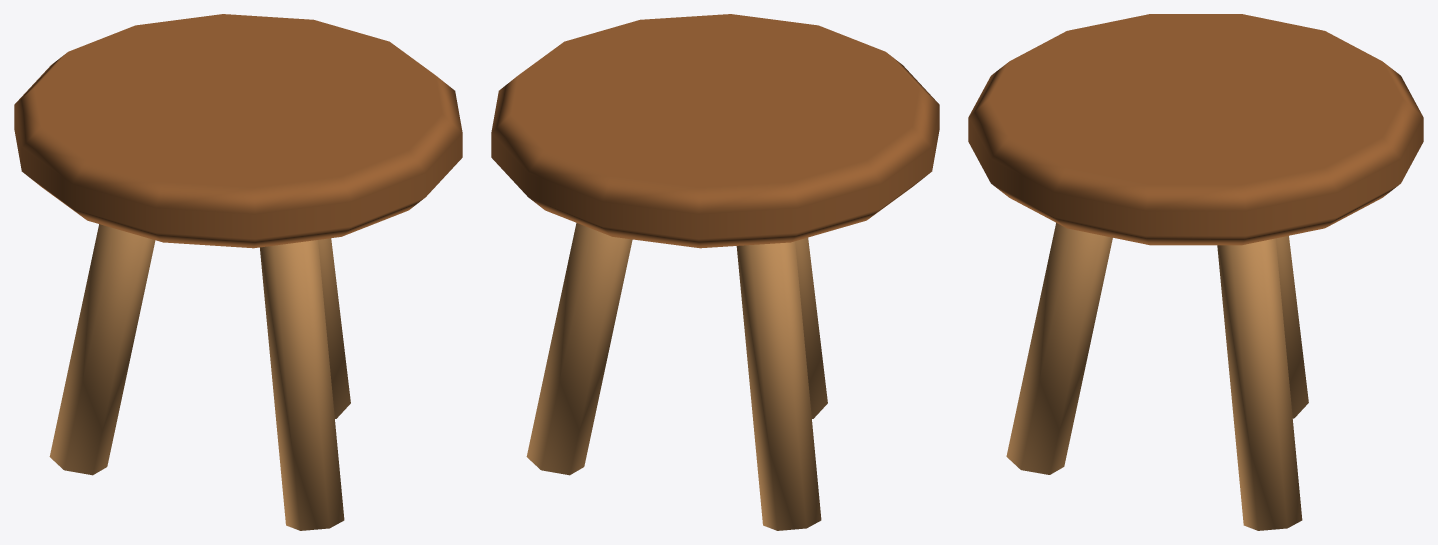
Rendered from stool.glb.
The picture shows the model from 3 angles, left to right: view 1: azimuth 30°, elevation 25°; view 2: azimuth 150°, elevation 25°; view 3: azimuth 270°, elevation 25°; orthographic projection.
Visible parts, largest first — view 1: stool; view 2: stool; view 3: stool.
Part boxes in pixels (left/top/right/bottom): stool: left=14, top=14, right=462, bottom=530; stool: left=491, top=14, right=939, bottom=530; stool: left=968, top=14, right=1423, bottom=530.
Size of the model in its own units: 0.3315 by 0.3042 by 0.34.
